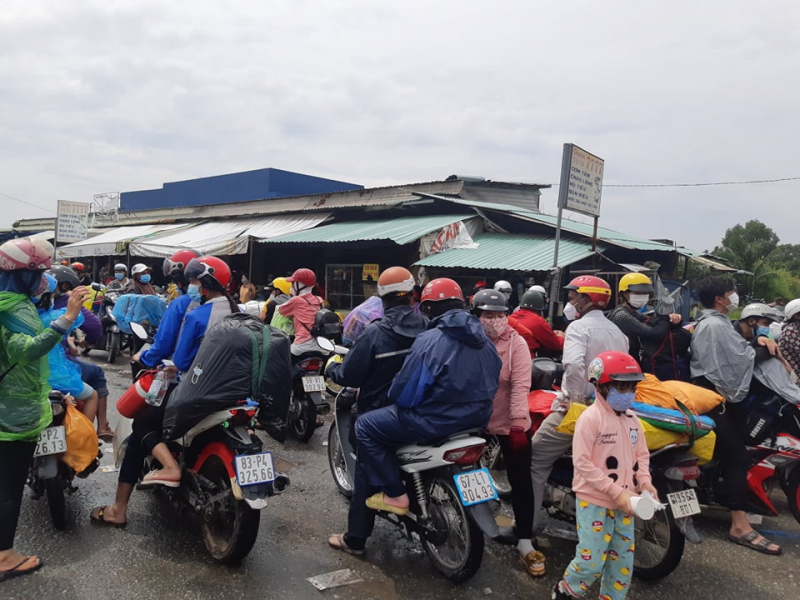Bien-so: (456, 466, 499, 505), (236, 452, 275, 489), (668, 489, 706, 522), (34, 426, 66, 457), (301, 375, 330, 393)
